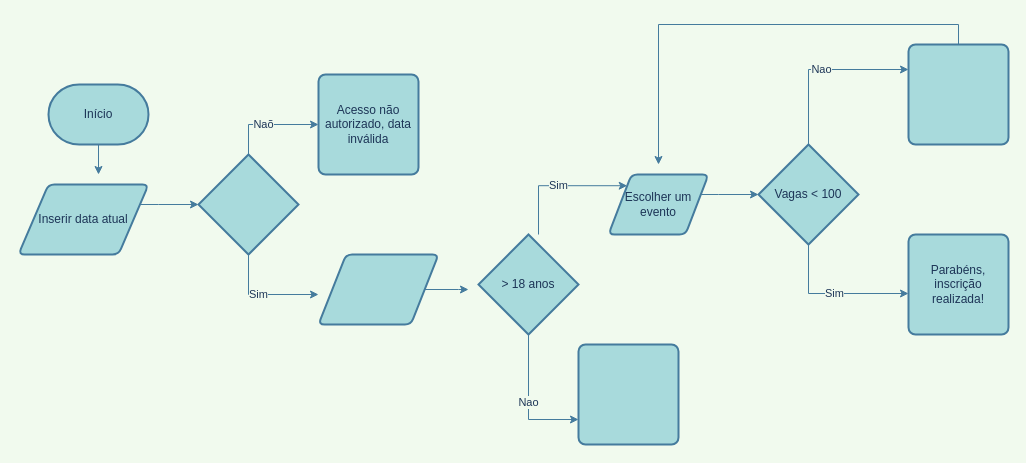
The diagram is 1026 pixels wide and 463 high, and some of its shapes have lost their labels. The shapes that lost their labels are listed below. From the top down, each one's box as (x1, y1, x2, y2) in pixels, then its label:
(907, 43, 1009, 145): Número de vagas esgotadas
(197, 153, 299, 255): > data atual
(317, 253, 439, 325): Inserir data de nascimento
(577, 343, 679, 445): Cadastro não autorizado por idade
